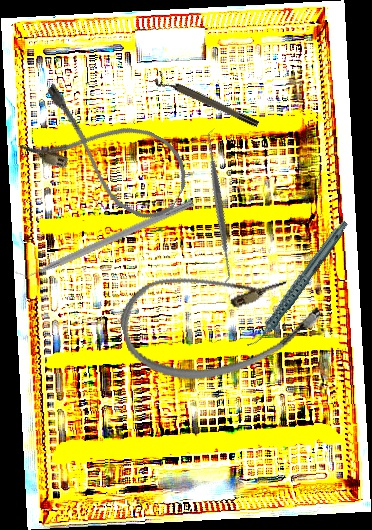Cannula: (111, 238, 330, 399), (16, 78, 200, 230)
Chopper: (12, 189, 195, 285)
Fixation Ring: (152, 70, 261, 134)
Handpiece: (225, 219, 370, 351)
Spatula Surgical: (139, 127, 299, 286)
